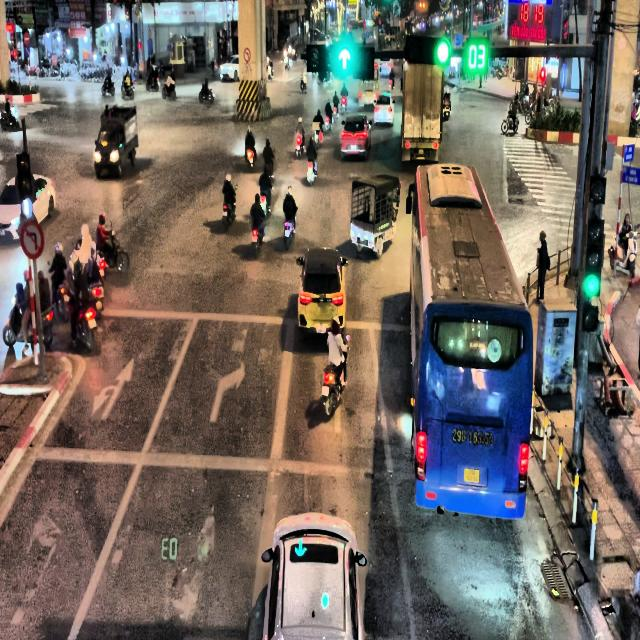BUS: (408, 162, 534, 518)
CAR: (247, 512, 367, 639), (296, 247, 348, 337), (0, 173, 56, 242), (341, 114, 372, 160), (373, 91, 395, 126), (220, 55, 239, 81)
MOTORBIKE: (2, 296, 54, 349), (61, 284, 97, 352), (321, 334, 350, 416), (100, 228, 129, 272), (251, 218, 265, 257), (222, 198, 236, 232), (501, 112, 519, 133), (259, 188, 271, 217), (284, 218, 294, 251), (146, 68, 159, 91), (306, 158, 316, 186), (245, 144, 256, 168), (121, 79, 134, 99), (162, 82, 176, 100), (442, 90, 450, 120), (199, 86, 214, 102), (102, 78, 115, 96), (295, 133, 304, 157), (324, 114, 332, 130), (300, 74, 307, 92)
